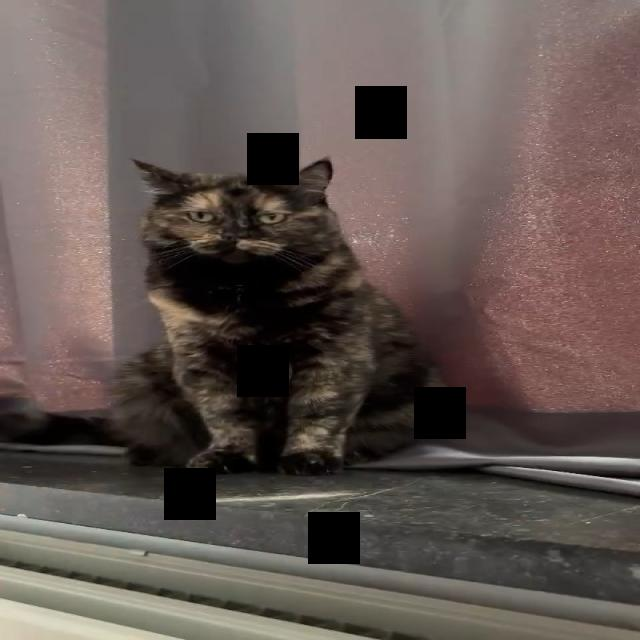authorized: (107, 156, 448, 476)
